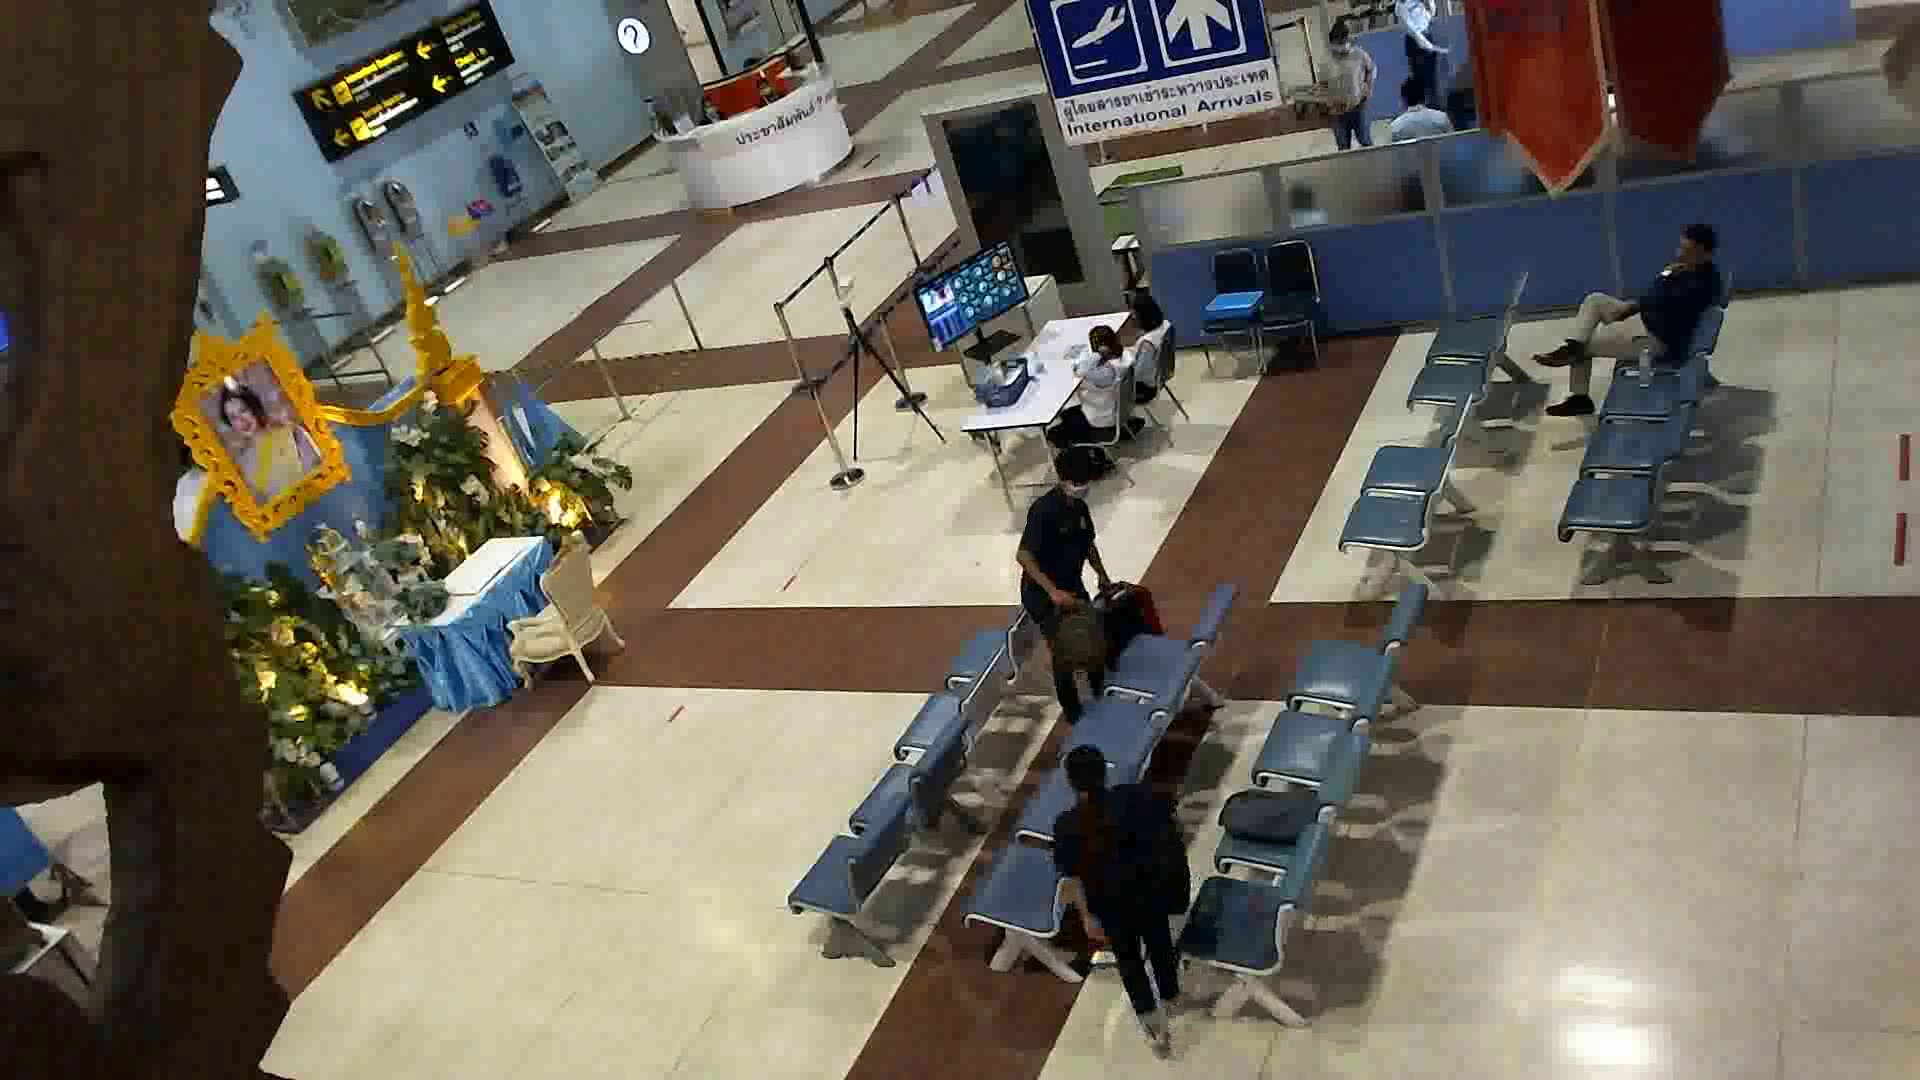backpack: (1199, 765, 1329, 857), (1051, 593, 1114, 688)
luggage: (1095, 574, 1172, 686)
people: (1041, 738, 1216, 1074), (1543, 209, 1731, 420), (1014, 440, 1118, 736), (1033, 307, 1129, 491), (1124, 290, 1189, 407)
